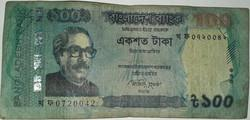100 taka: (7, 2, 246, 116)
